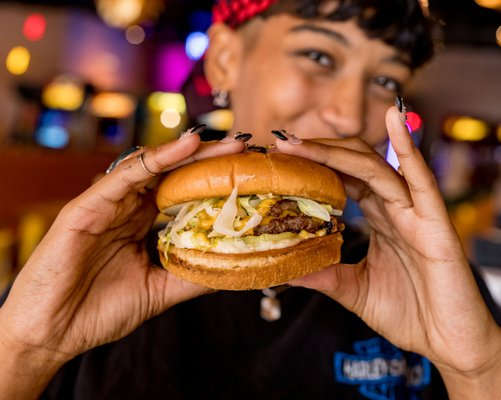soup: (152, 150, 349, 291)
